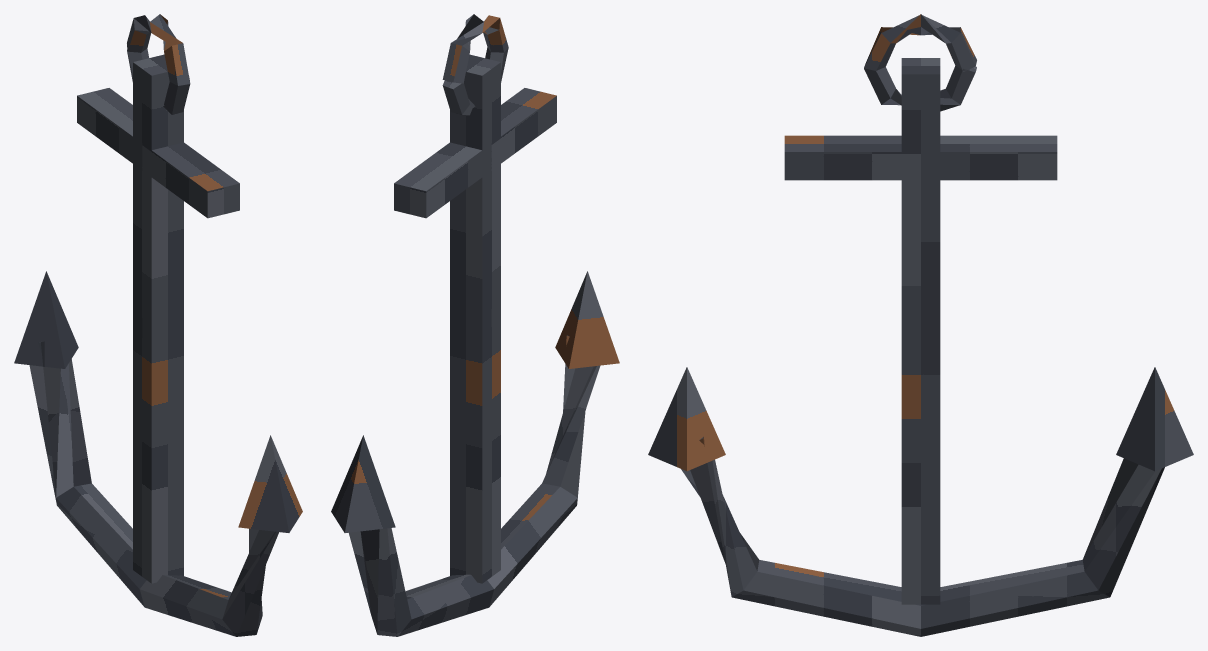
The model's file is anchor.glb.
3 views of the same model, side by side, from view 1: azimuth 30°, elevation 25°; view 2: azimuth 150°, elevation 25°; view 3: azimuth 270°, elevation 25° (orthographic). The views are drawn at different scales.
Parts seen in each view (by area): view 1: anchor; view 2: anchor; view 3: anchor.
Part boxes in pixels (<box>): anchor: <box>14,14,302,636</box>; anchor: <box>331,14,619,636</box>; anchor: <box>648,14,1193,636</box>.
Size of the model in its own units: 0.2 by 1.76 by 1.4.
Materials: 1 (1 with a texture image).
